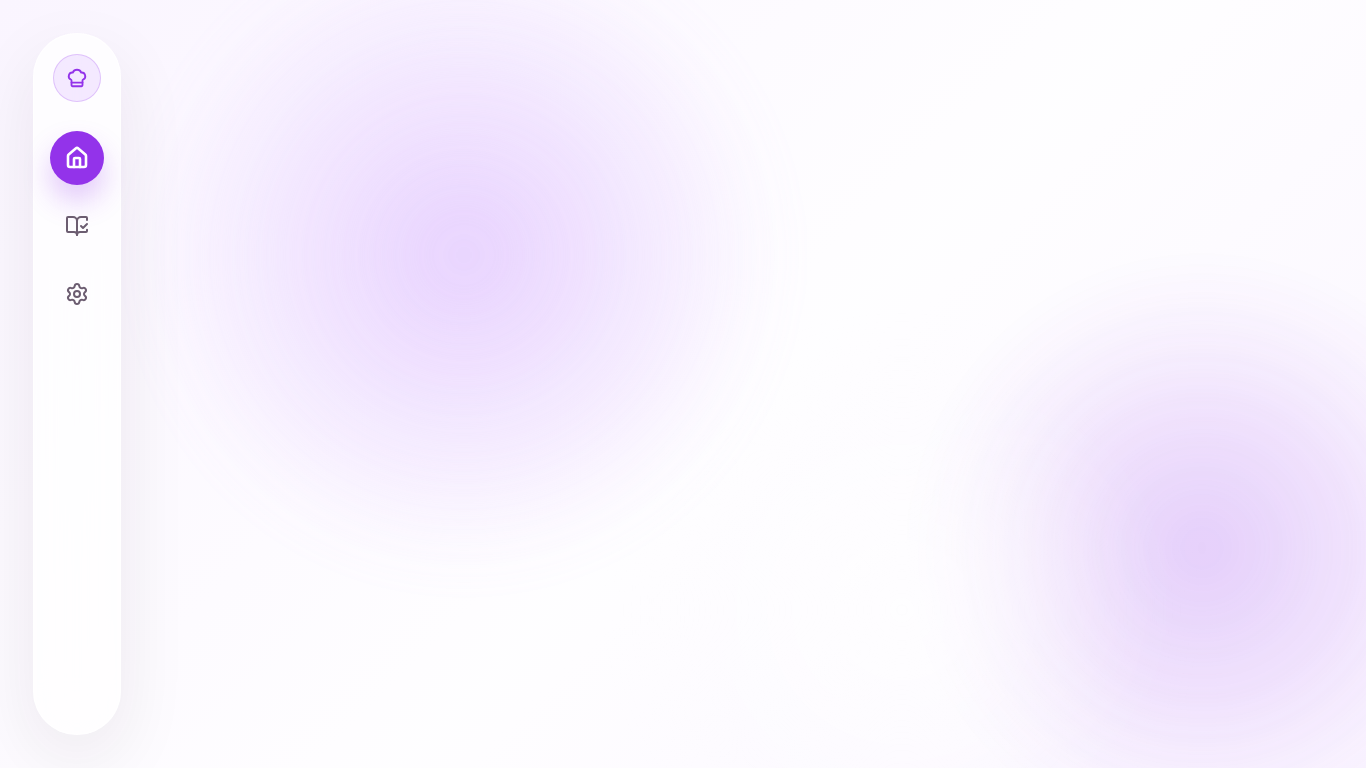
it: BokekLab staged UI › expands desktop navigation labels from the BokekLab avatar
The width and height of the screenshot is (1366, 768).
Click the button named "BokekLab" at (77, 78), box [53, 54, 101, 102]
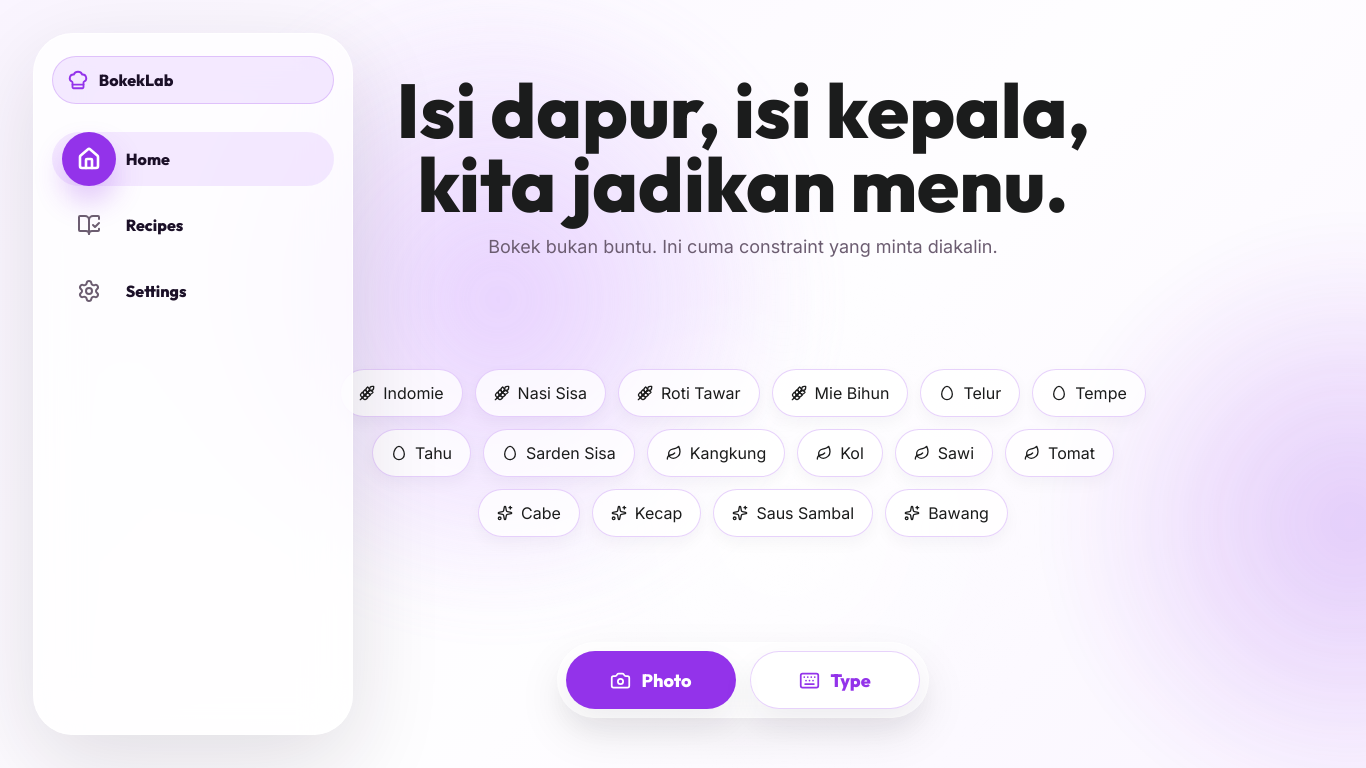
Expected: the number of elements with class "nav-label" is 3, [126, 149, 170, 169]; [126, 215, 183, 235]; [126, 281, 186, 301]
Expected: the button named "Collapse navigation" is shown
